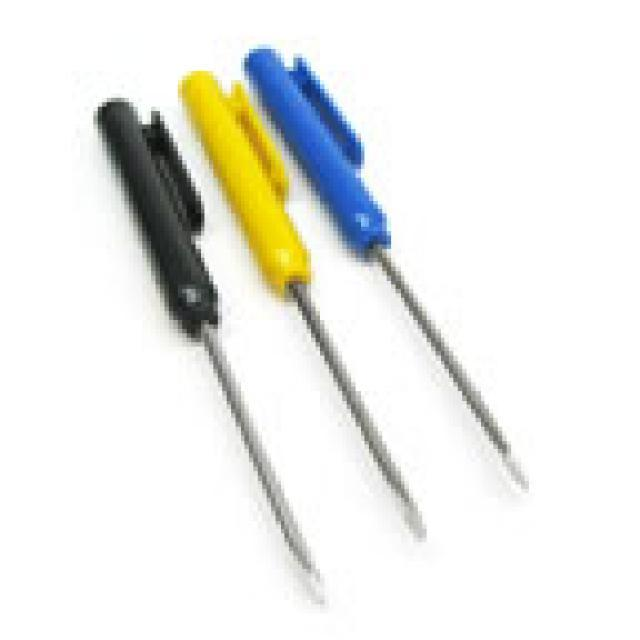screwdriver: (233, 32, 543, 496), (170, 59, 438, 558), (82, 92, 336, 616)
